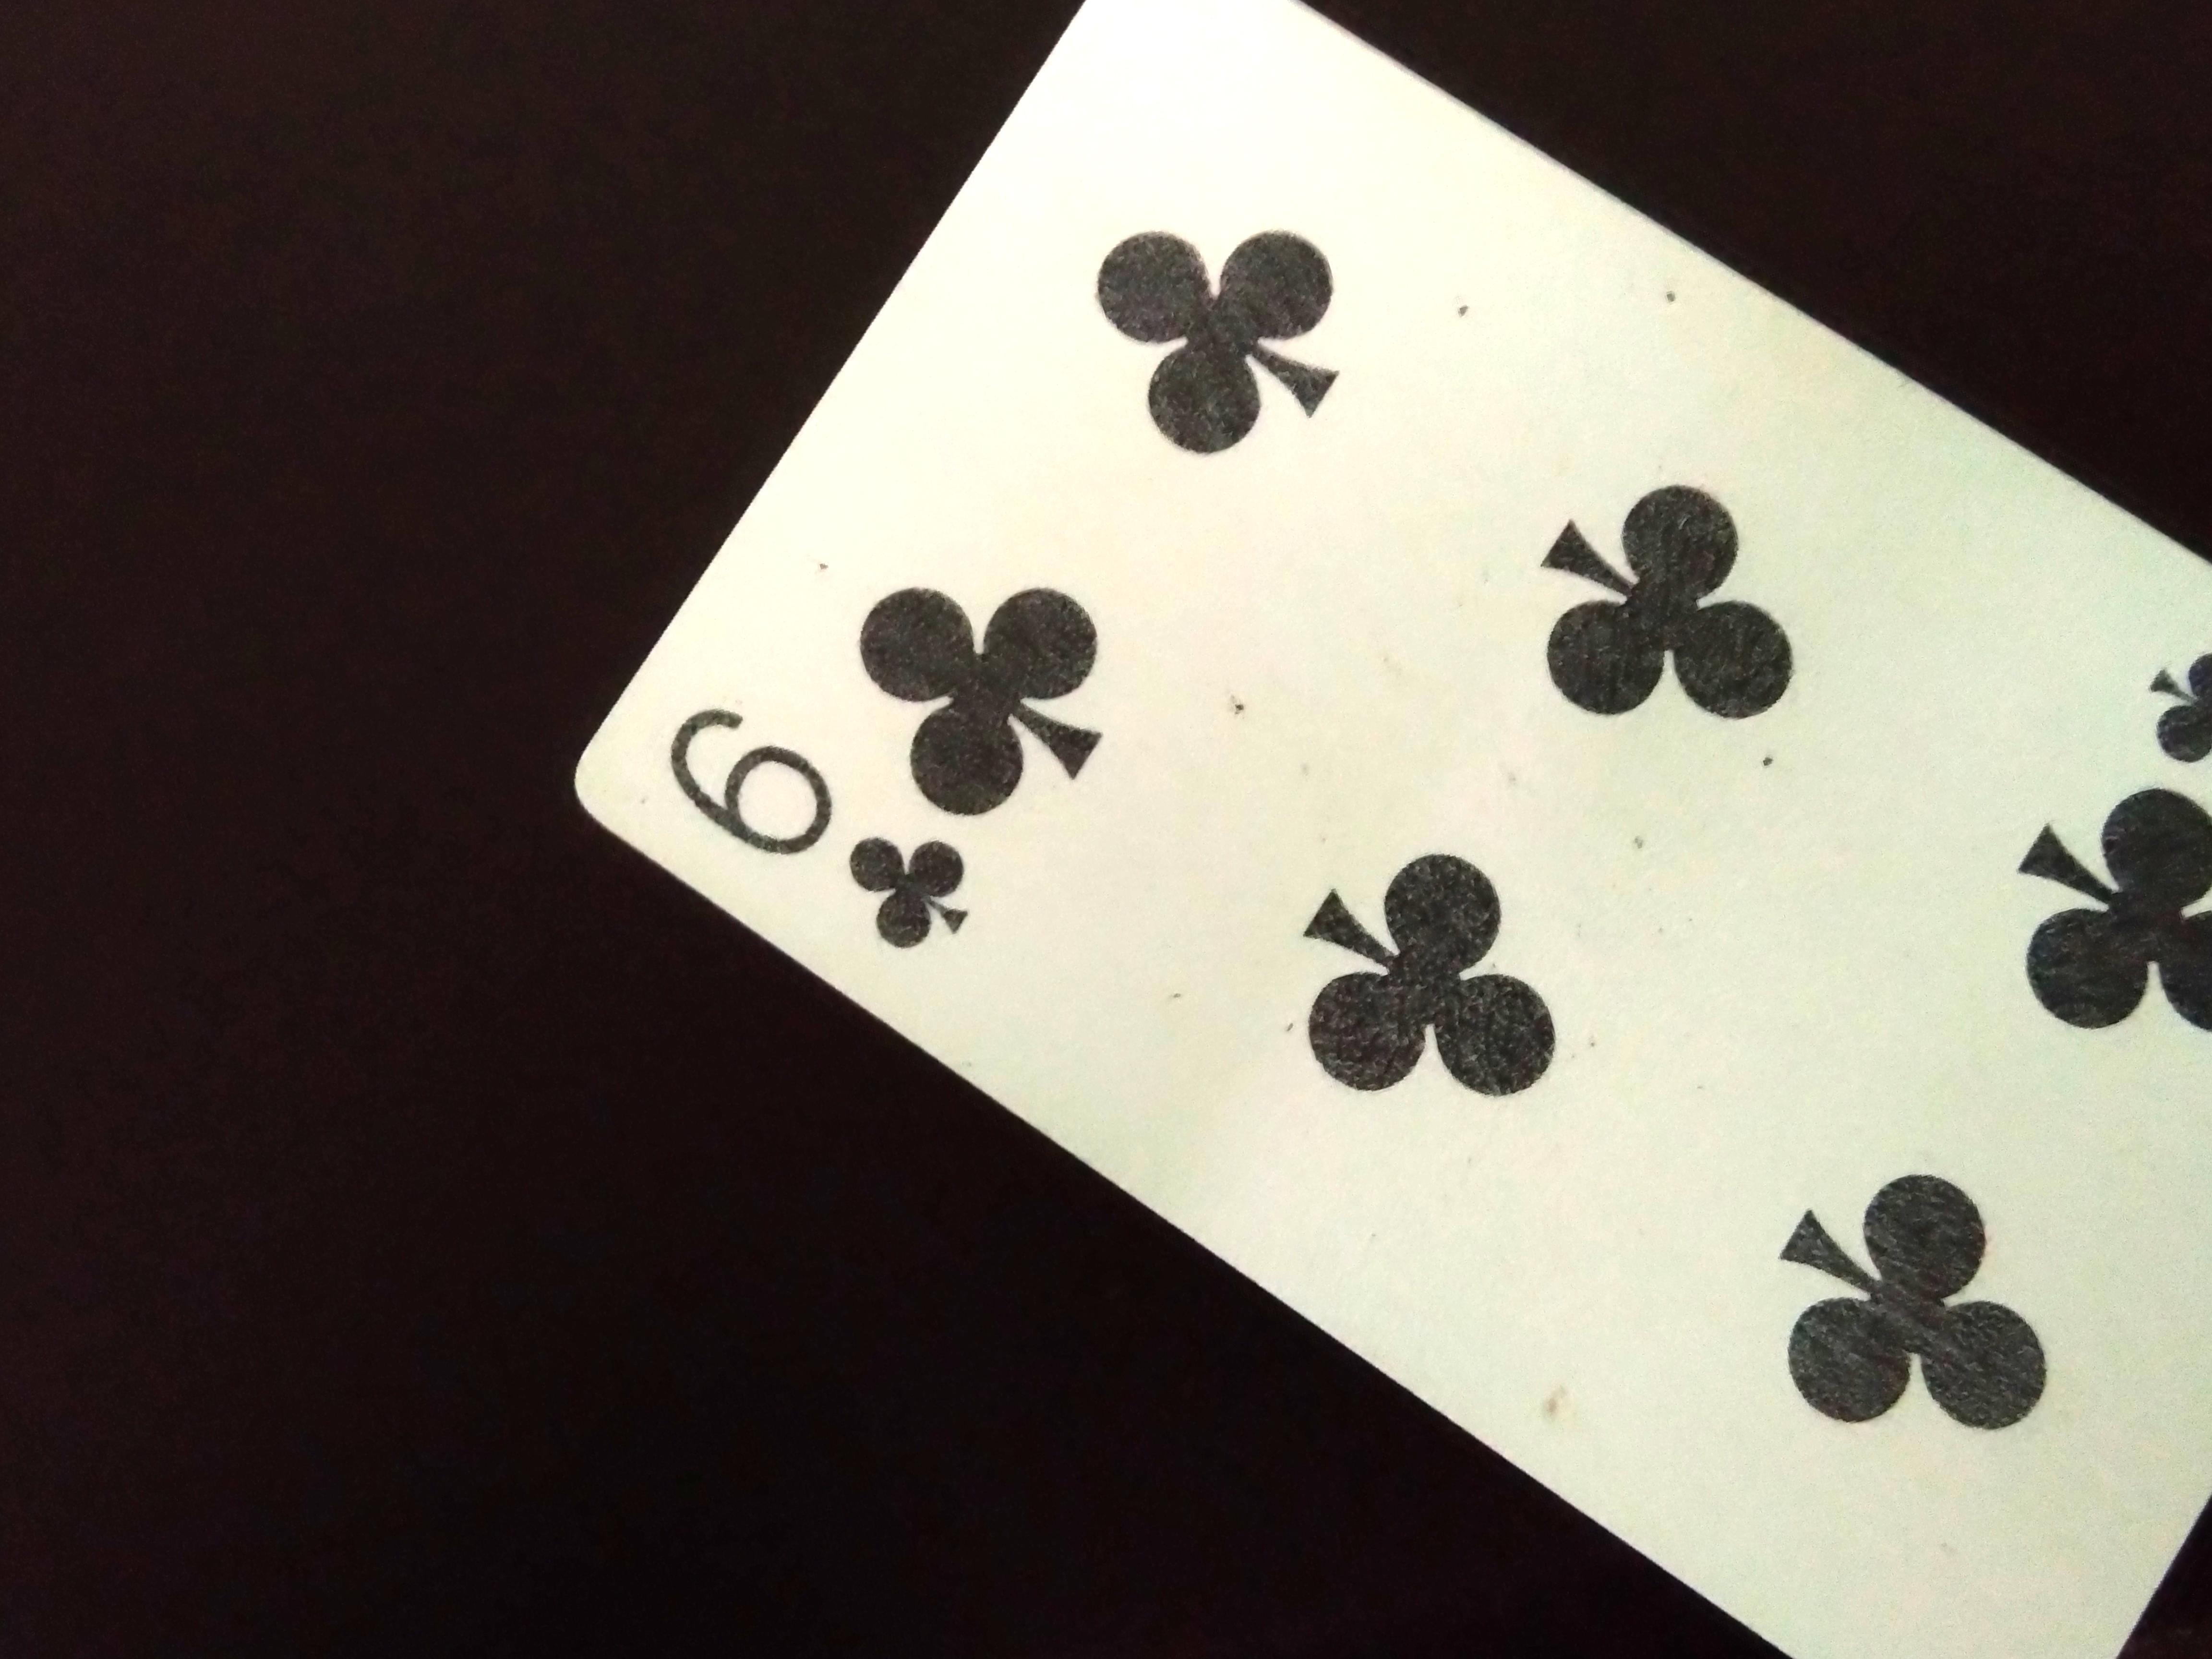6C: (651, 695, 1022, 1004)
